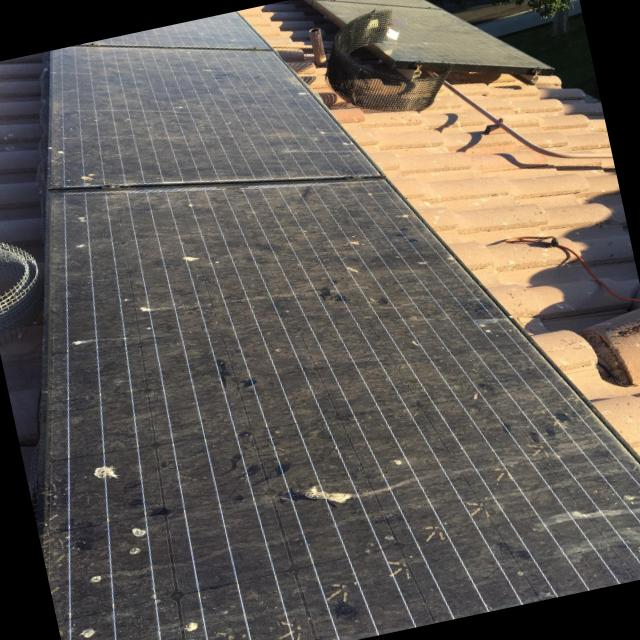faulty: (46, 12, 640, 640), (64, 445, 160, 560), (278, 459, 368, 525)
